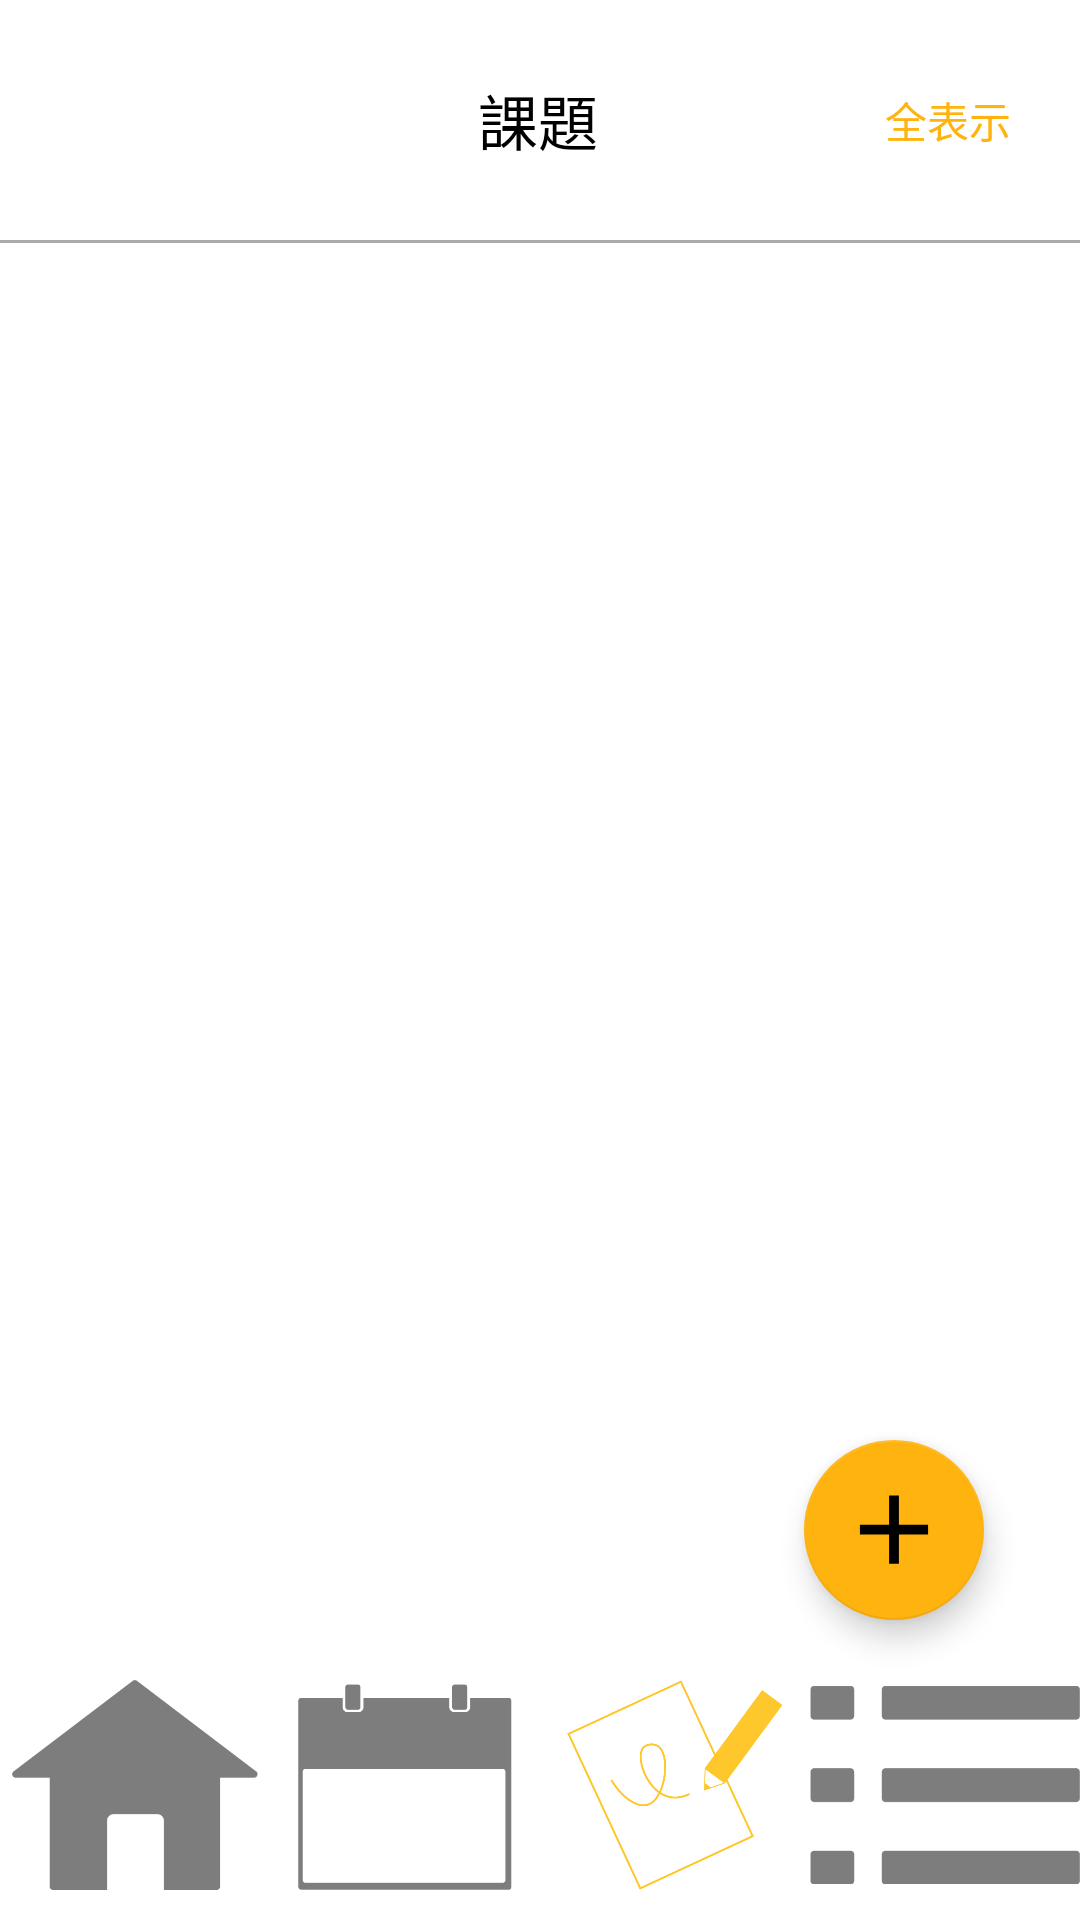

Screen size 1080 × 1920. Icon name, then its box in pixels as (x1, y1, x2, y2):
calendar off: (298, 1684, 512, 1890)
home off: (12, 1680, 258, 1890)
kadai on: (567, 1680, 782, 1890)
plus: (804, 1440, 984, 1620)
